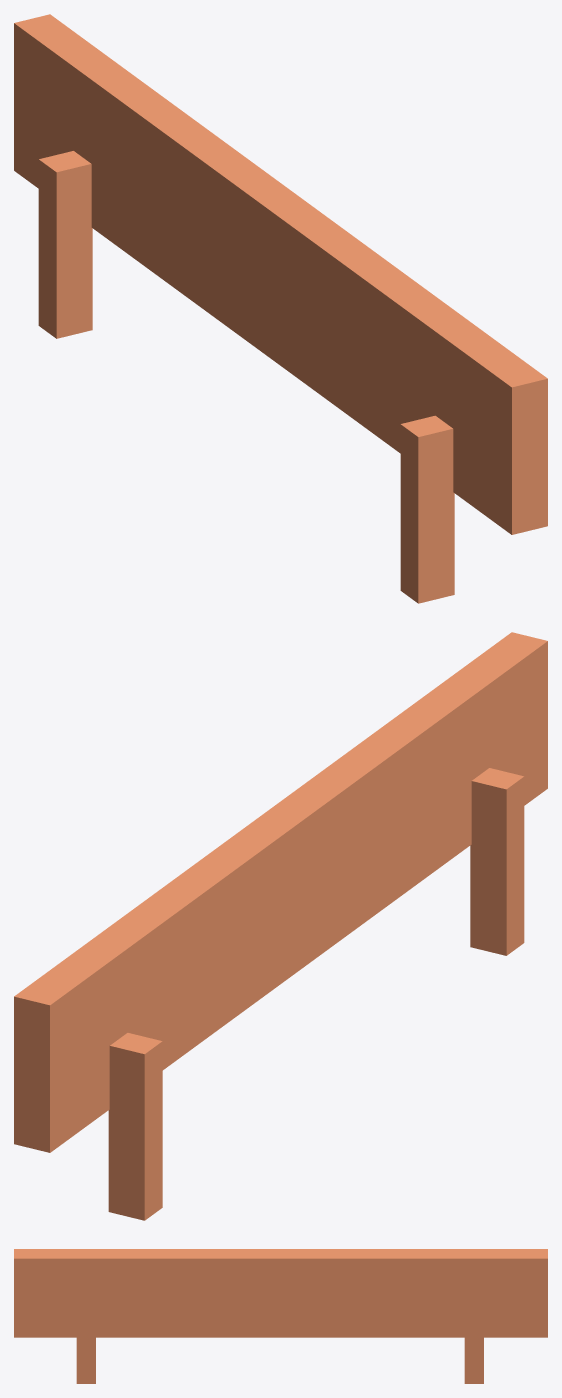
Rendered from Fence1.fbx.
3 views of the same model, one above another, from view 1: azimuth 30°, elevation 25°; view 2: azimuth 150°, elevation 25°; view 3: azimuth 270°, elevation 25° (orthographic). The views are drawn at different scales.
Parts seen in each view (by area): view 1: Cube.002, Cube, Cube.001; view 2: Cube.002, Cube, Cube.001; view 3: Cube.002, Cube, Cube.001.
Boxes of the visible parts, <box> form: Cube.002: <box>14,14,547,534</box>; Cube: <box>400,415,454,603</box>; Cube.001: <box>38,151,92,338</box>; Cube.002: <box>14,632,547,1152</box>; Cube: <box>470,768,524,955</box>; Cube.001: <box>108,1033,162,1220</box>; Cube.002: <box>14,1249,547,1337</box>; Cube: <box>76,1337,95,1383</box>; Cube.001: <box>464,1337,483,1383</box>.
Bounding box in the file's own units: 60.24 × 203 × 731.
